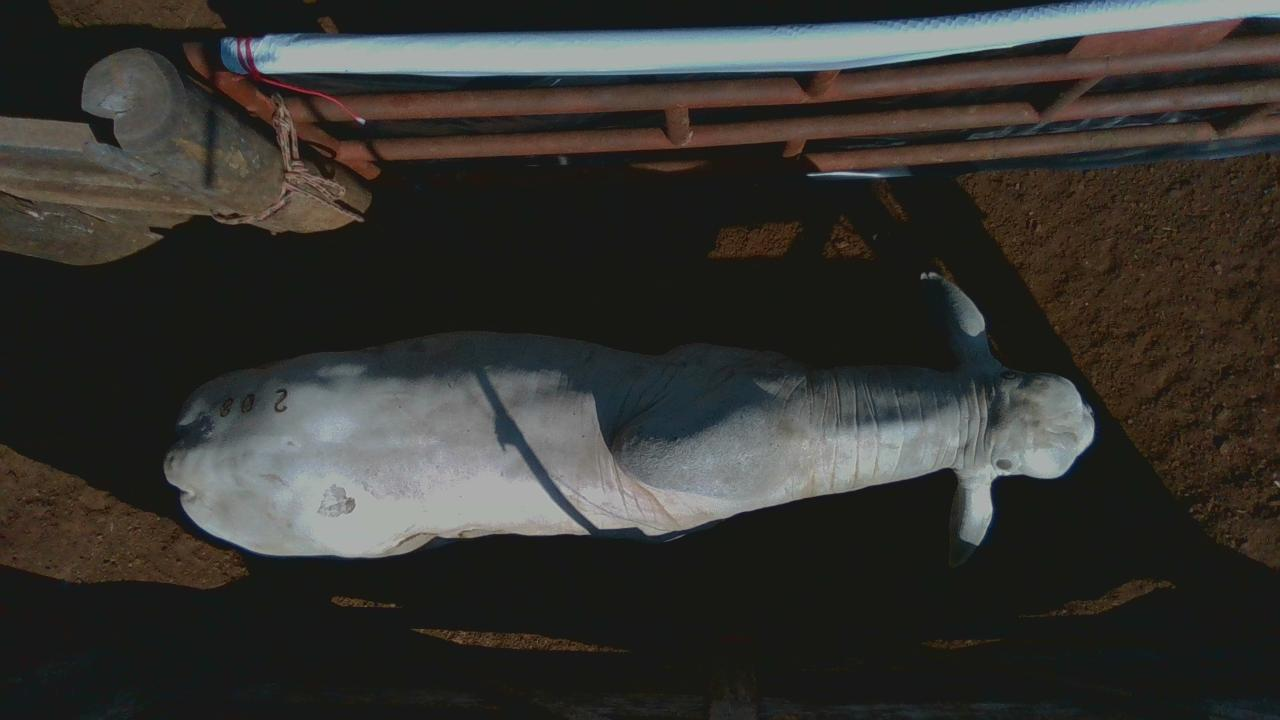cattle: (162, 268, 1096, 569)
